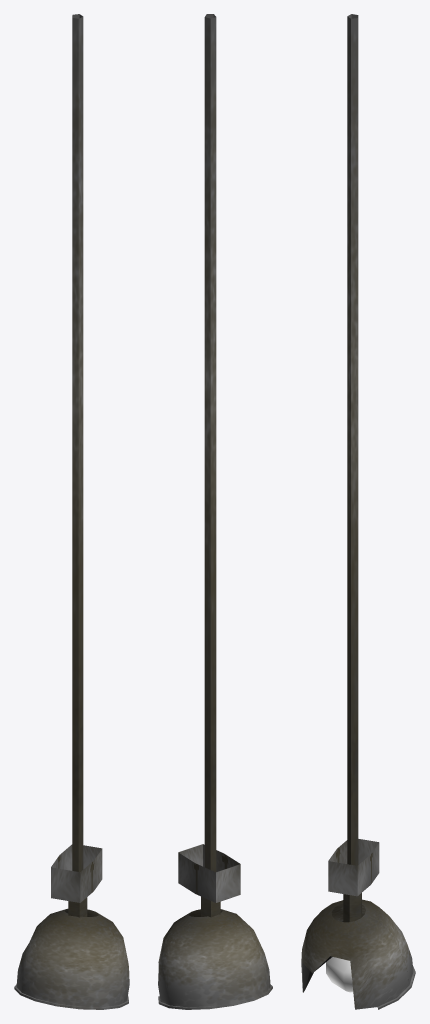
File: LightBroken.fbx
The picture shows the model from 3 angles, left to right: view 1: azimuth 90°, elevation 25°; view 2: azimuth 150°, elevation 25°; view 3: azimuth 270°, elevation 25°; orthographic projection.
Parts seen in each view (by area): view 1: Empty_Mesh; view 2: Empty_Mesh; view 3: Empty_Mesh.
Boxes of the visible parts, <box> form: Empty_Mesh: <box>14,14,129,1009</box>; Empty_Mesh: <box>158,14,272,1009</box>; Empty_Mesh: <box>301,14,415,1009</box>.
Size of the model in its own units: 64.18 by 611 by 64.98.
